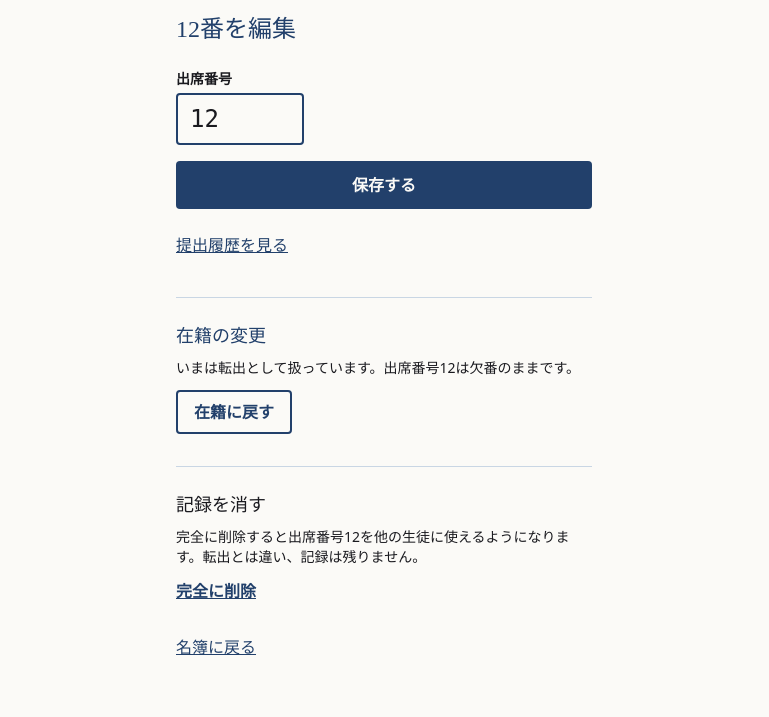
Test: 転出 › 転出済みなら在籍に戻せる
Click the button "在籍に戻す" at (234, 412), box [176,390,292,434]
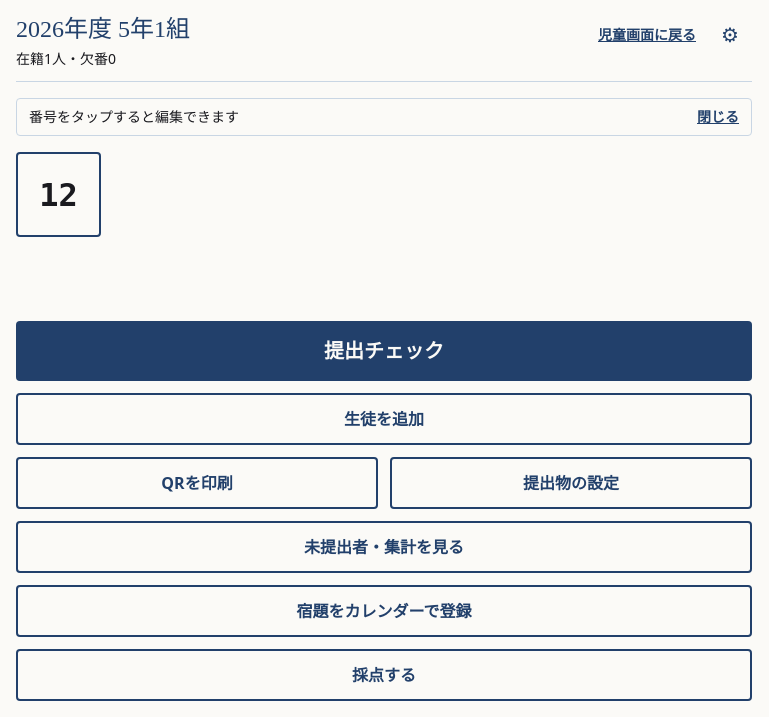
expect the text "在籍1人・欠番0" is shown: met, box [16,49,116,68]
